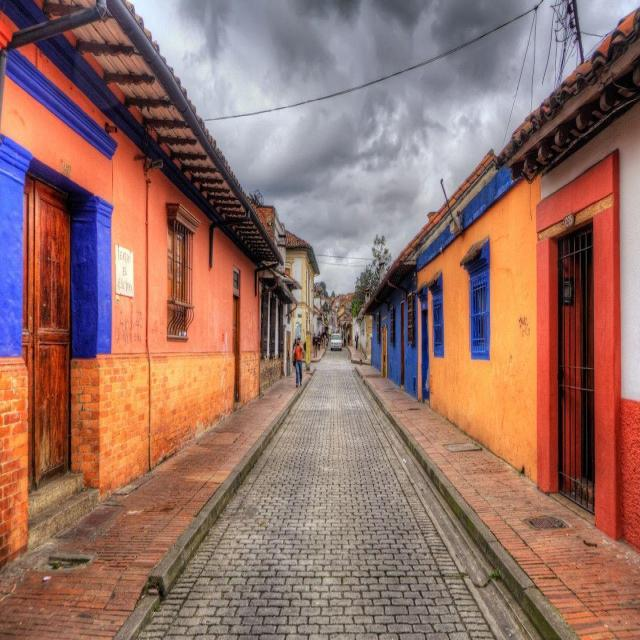Casa: (0, 0, 274, 565), (499, 7, 640, 549), (398, 150, 540, 478), (363, 246, 420, 397), (286, 232, 319, 360), (260, 276, 290, 392), (352, 310, 372, 358)
